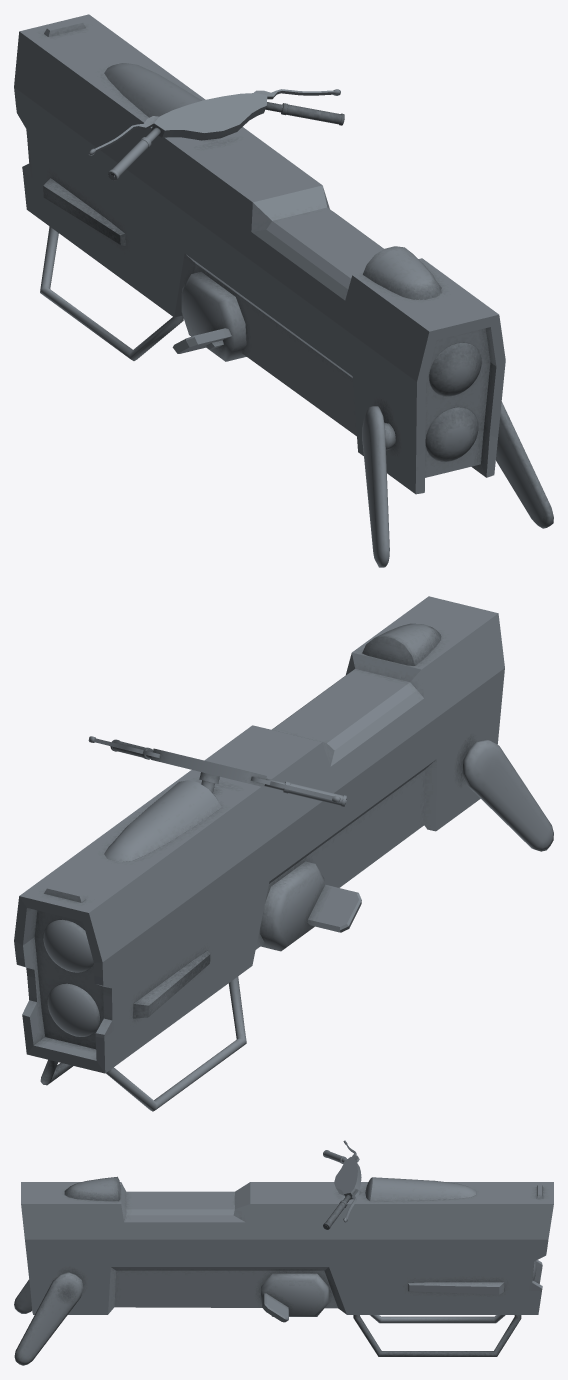
The model's file is bike.glb.
3 views of the same model, one above another, from view 1: azimuth 30°, elevation 25°; view 2: azimuth 150°, elevation 25°; view 3: azimuth 270°, elevation 25° (orthographic). The views are drawn at different scales.
Parts seen in each view (by area): view 1: bike, Handlebars; view 2: bike, Handlebars; view 3: bike, Handlebars.
Part boxes in pixels (box(x1,y1,x2,y2)): bike: box(14, 14, 553, 567); Handlebars: box(88, 89, 344, 180); bike: box(14, 596, 553, 1111); Handlebars: box(88, 736, 346, 807); bike: box(14, 1176, 553, 1365); Handlebars: box(323, 1140, 361, 1229).
Bounding box in the file's own units: 1.19 × 1.17 × 3.4.
1 material, 1 textured.
